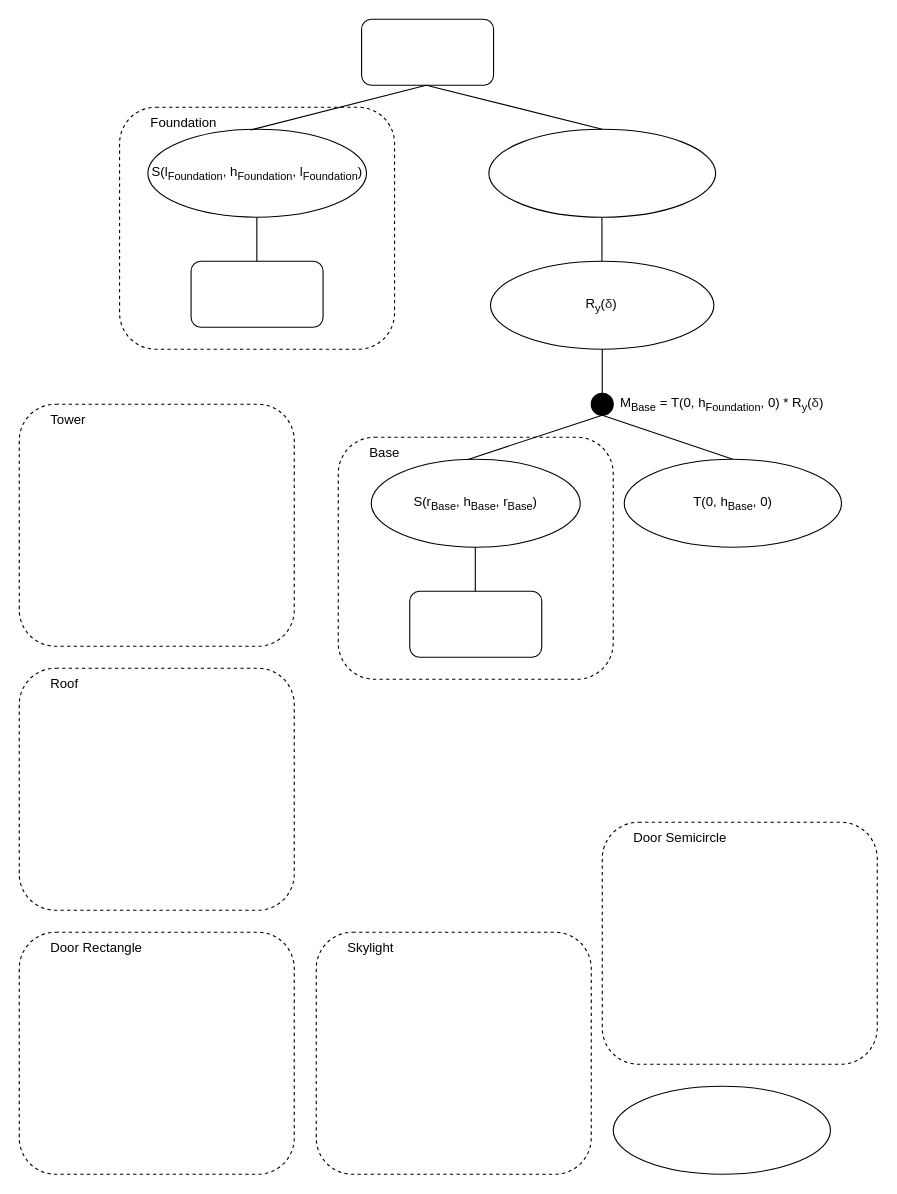
This 897x1194 diagram has some shape labels left out. The centre of each missing label's shape, as x and y in pixels:
Cube: (x=256, y=293)
Cylinder: (x=475, y=623)
R z ( α ): (x=721, y=1129)
T(0, h Foundation , 0): (x=602, y=172)
Windmill: (x=427, y=51)
